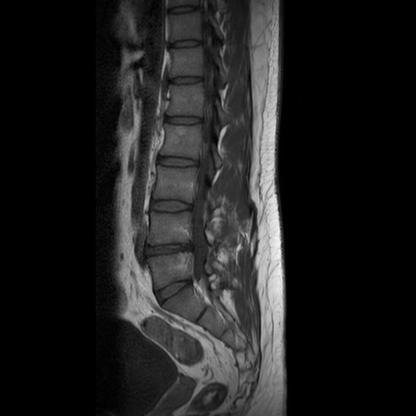Disc Bulgerotation: (144, 240, 193, 264)
